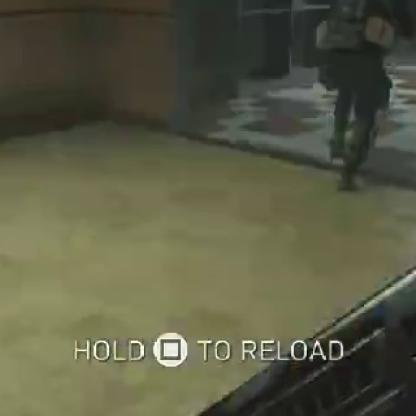enemy: (312, 1, 407, 195)
